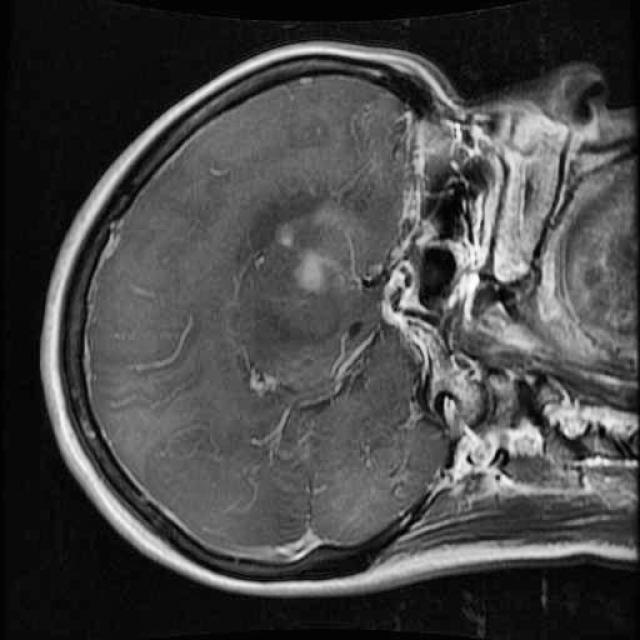Tumor: (268, 228, 377, 310)
